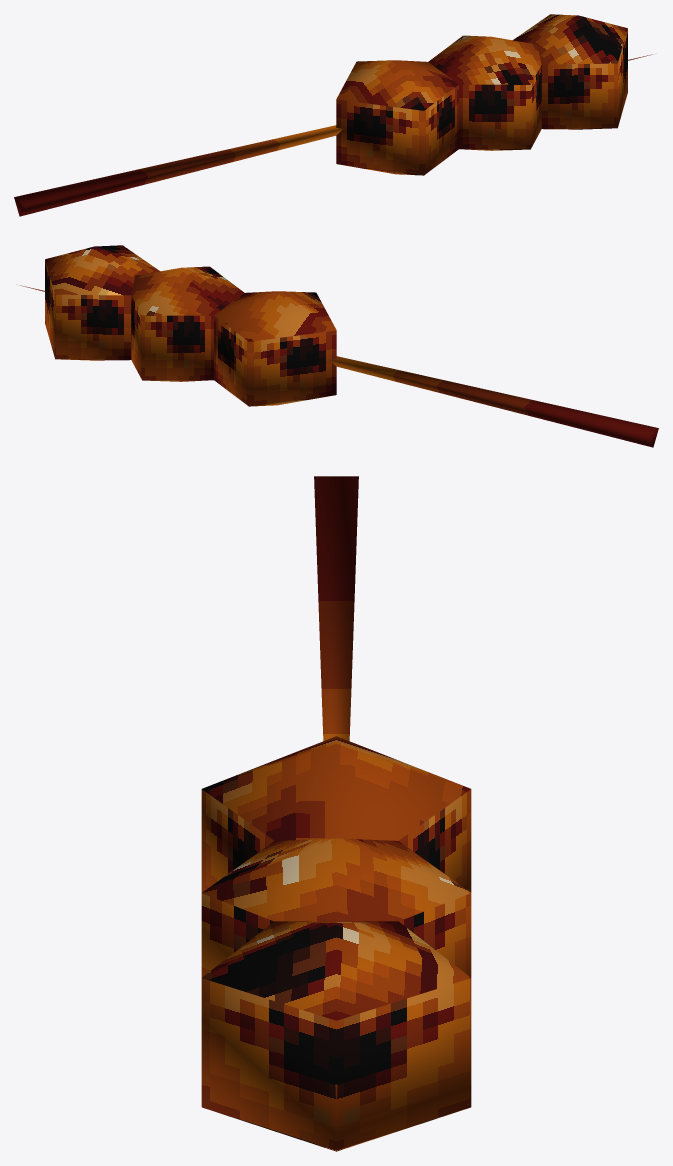
3 views of the same model, one above another, from view 1: azimuth 30°, elevation 25°; view 2: azimuth 150°, elevation 25°; view 3: azimuth 270°, elevation 25° (orthographic). The views are drawn at different scales.
Parts seen in each view (by area): view 1: 1338sbim03_21_c; view 2: 1338sbim03_21_c; view 3: 1338sbim03_21_c.
Part boxes in pixels (x1=…): 1338sbim03_21_c: x1=14, y1=14, x2=652, y2=216; 1338sbim03_21_c: x1=20, y1=245, x2=658, y2=447; 1338sbim03_21_c: x1=201, y1=476, x2=471, y2=1151.
Size of the model in its own units: 2.07 by 0.3535 by 0.3789.
Materials: 1 (1 with a texture image).
